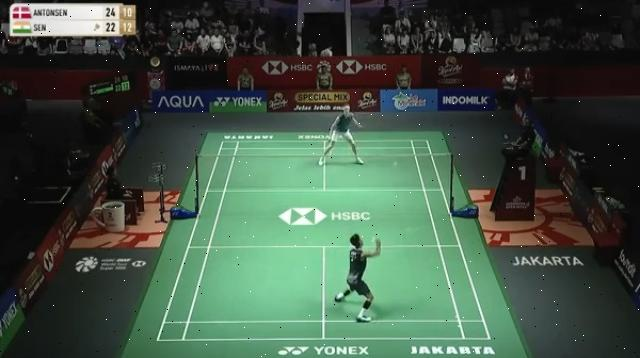Shuttlecock: (389, 158, 401, 168)
